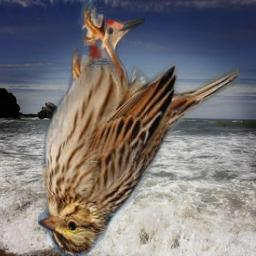Sparrow: (38, 1, 239, 256)
Woodpecker: (66, 18, 145, 185)
